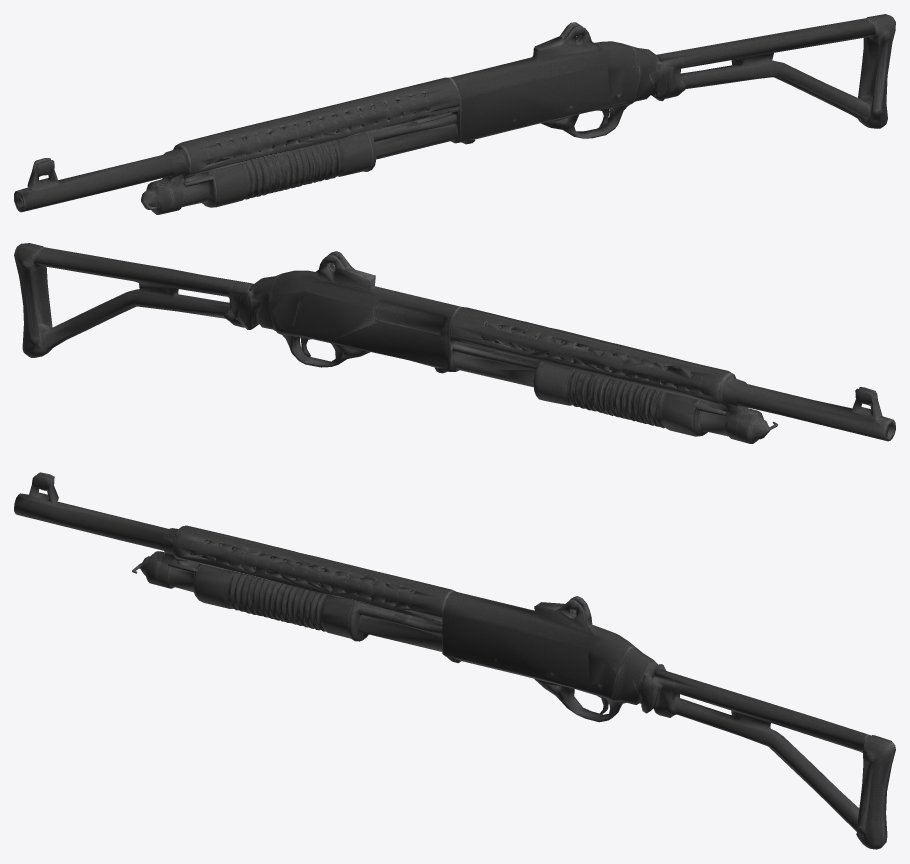
The model's file is wpn_shotgun.glb.
The picture shows the model from 3 angles, top to bottom: view 1: azimuth 30°, elevation 25°; view 2: azimuth 150°, elevation 25°; view 3: azimuth 330°, elevation 25°; orthographic projection.
Parts seen in each view (by area): view 1: Mesh_0; view 2: Mesh_0; view 3: Mesh_0.
Part boxes in pixels (x1,y1,x2,y2): Mesh_0: [14, 14, 895, 214]; Mesh_0: [14, 243, 895, 443]; Mesh_0: [14, 472, 895, 849].
Bounding box in the file's own units: 1.9 × 0.3651 × 0.0934.
Materials: 1 (1 with a texture image).
